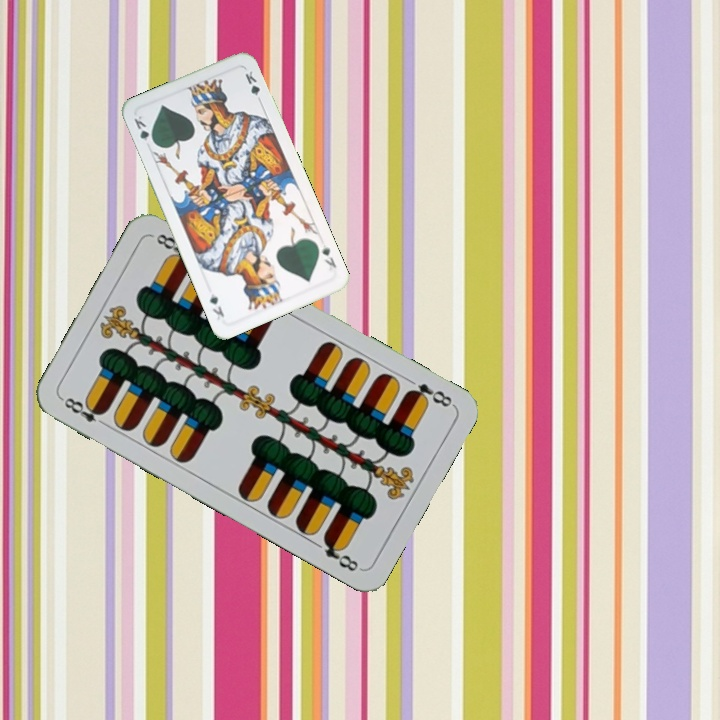E8: (57, 393, 111, 430), (402, 379, 456, 410)
GK: (130, 112, 157, 147), (318, 240, 339, 273)
